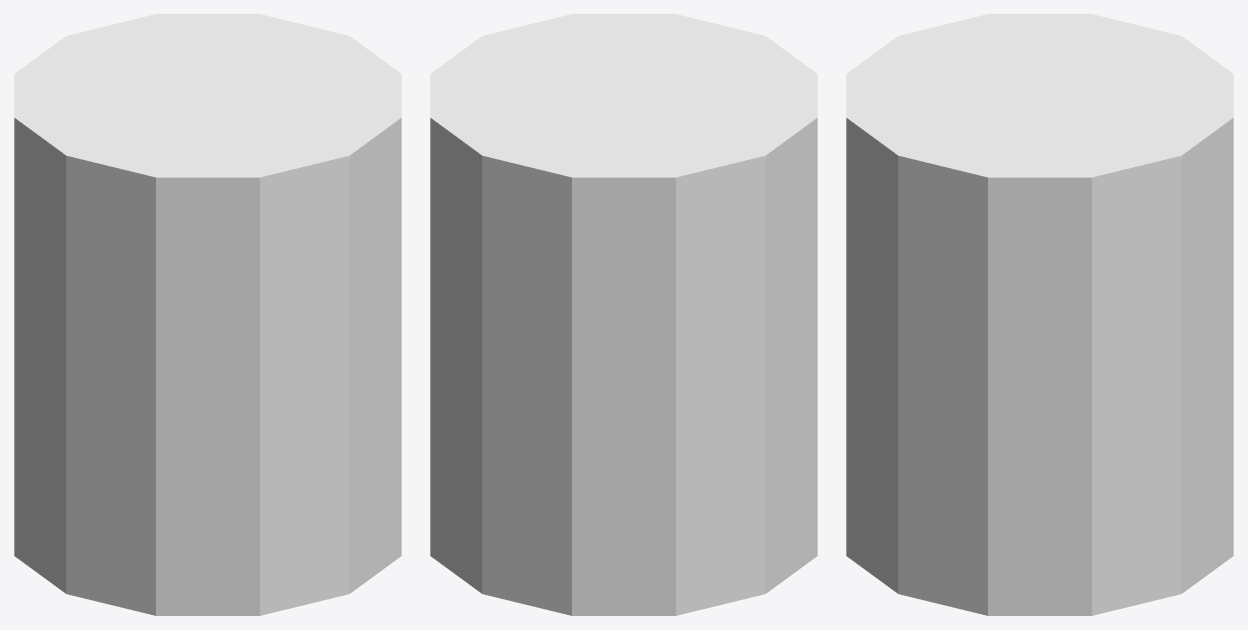
Rendered from overcharge.glb.
3 renders of one model, left to right at view 1: azimuth 30°, elevation 25°; view 2: azimuth 150°, elevation 25°; view 3: azimuth 270°, elevation 25°, orthographic.
Visible parts, largest first — view 1: glass; view 2: glass; view 3: glass.
Part boxes in pixels (x1,y1,x2,y2): glass: (14,14,401,615); glass: (430,14,817,615); glass: (846,14,1233,615).
Bounding box in the file's own units: 0.5 × 0.625 × 0.5.
2 materials, 2 textured.
